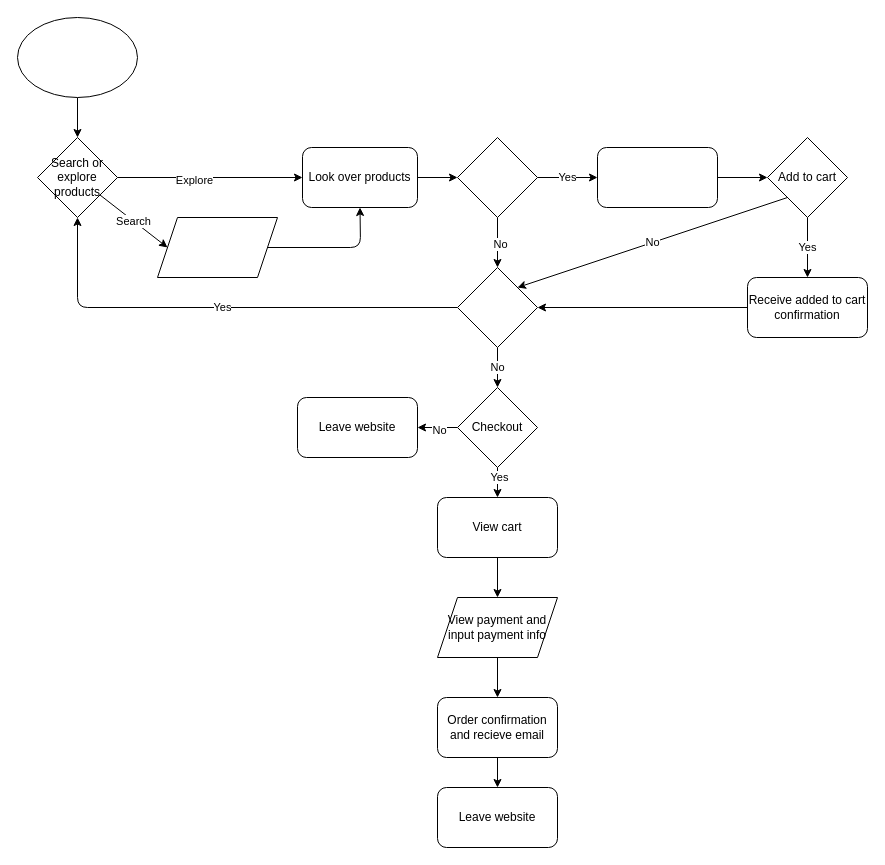
Image size: 885x865. Some labels were removed from this diagram. The centre of each missing label's shape, as x and y in pixels:
"Continue shopping" goes at [497,307].
"Enter website" goes at [77,57].
"Open specific product's webpage" goes at [657,177].
"Provide input of search" goes at [217,247].
"View specific product" goes at [497,177].
